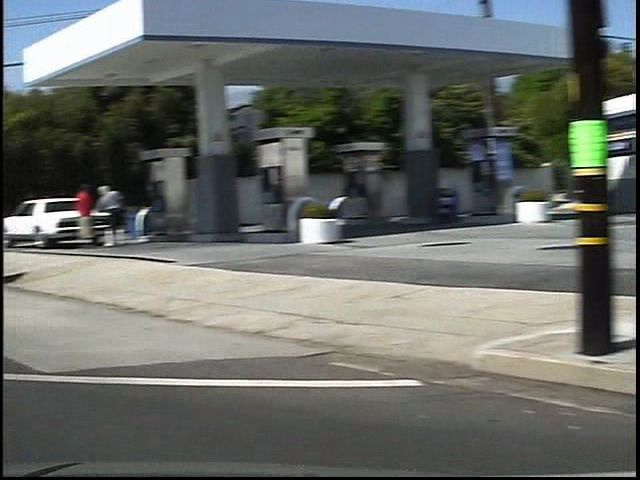person: (69, 177, 110, 245), (52, 179, 76, 248)
